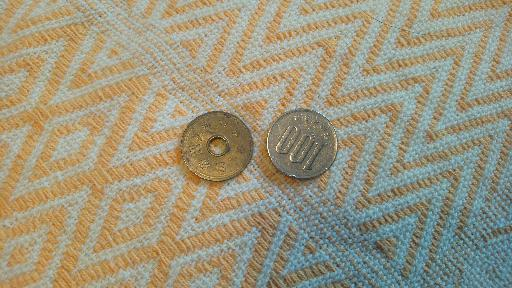100yen: (268, 110, 337, 177)
